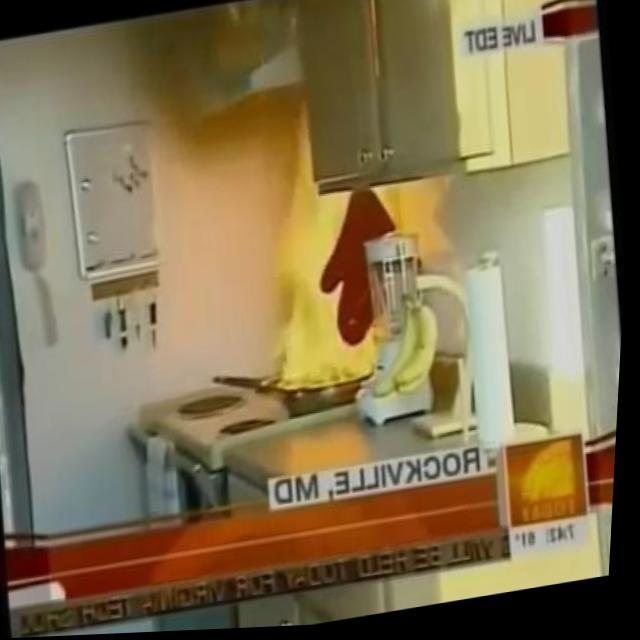fire: (229, 87, 425, 398)
